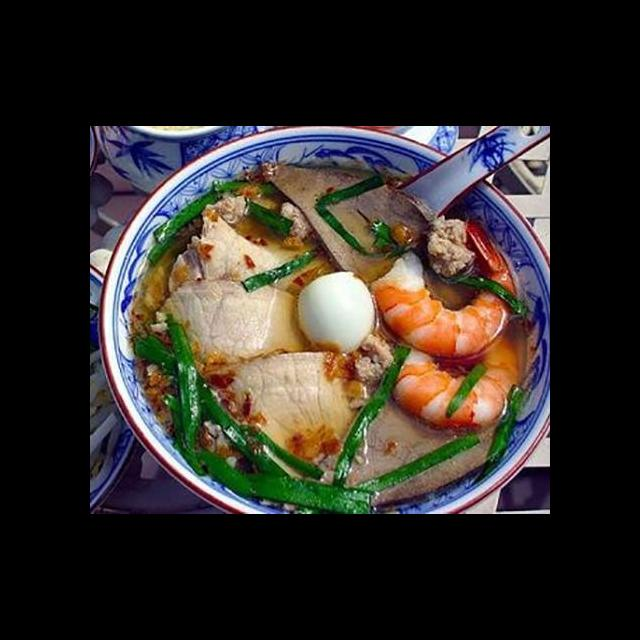gan: (299, 364, 506, 512), (255, 154, 438, 289)
thit bam: (345, 330, 398, 413), (423, 212, 478, 280)
thit heo: (205, 345, 366, 475), (158, 200, 332, 304), (154, 272, 320, 376)
tom: (366, 212, 520, 362), (385, 326, 525, 434)
trung: (293, 267, 379, 356)
